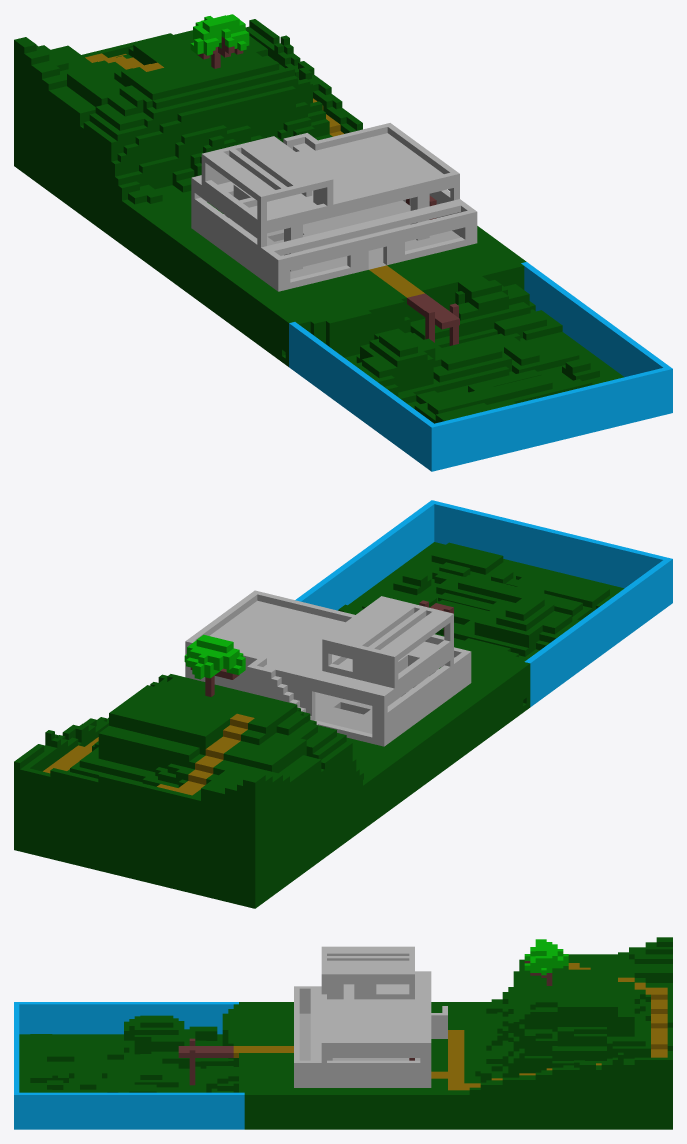
Rendered from gamkedo-start.obj.
3 views of the same model, one above another, from view 1: azimuth 30°, elevation 25°; view 2: azimuth 150°, elevation 25°; view 3: azimuth 270°, elevation 25° (orthographic). The views are drawn at different scales.
Visible parts, largest first — view 1: gamkedo-start; view 2: gamkedo-start; view 3: gamkedo-start.
Boxes of the visible parts, x1,y1,x2,y2 form: gamkedo-start: (14,14,672,471); gamkedo-start: (14,500,672,908); gamkedo-start: (14,937,672,1129).
Size of the model in its own units: 40 by 28 by 120.
Materials: 1 (1 with a texture image).
